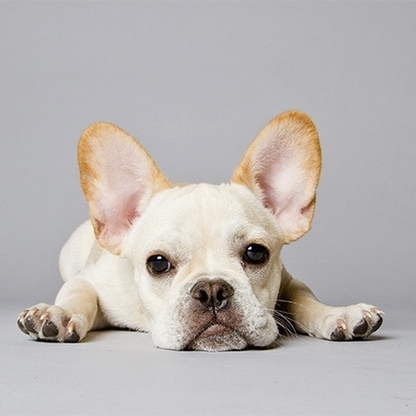bulldog: (15, 109, 387, 356)
